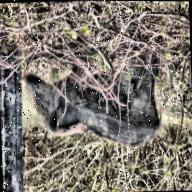boar: (24, 35, 169, 150)
